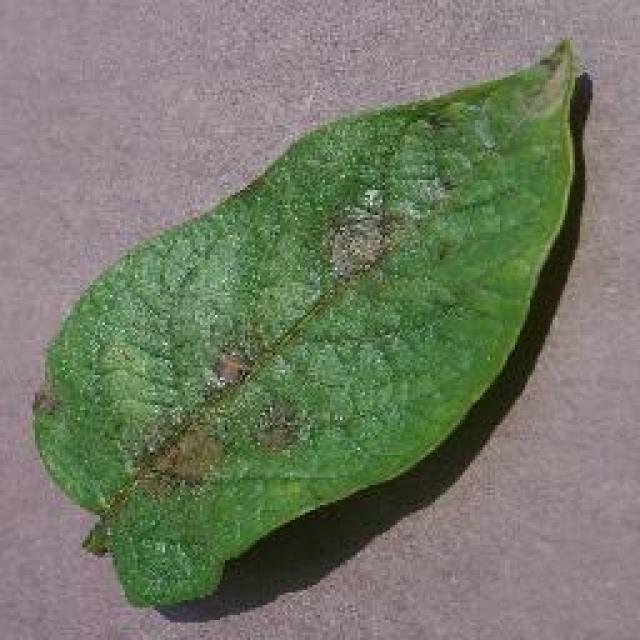Potato: (30, 35, 592, 607)
